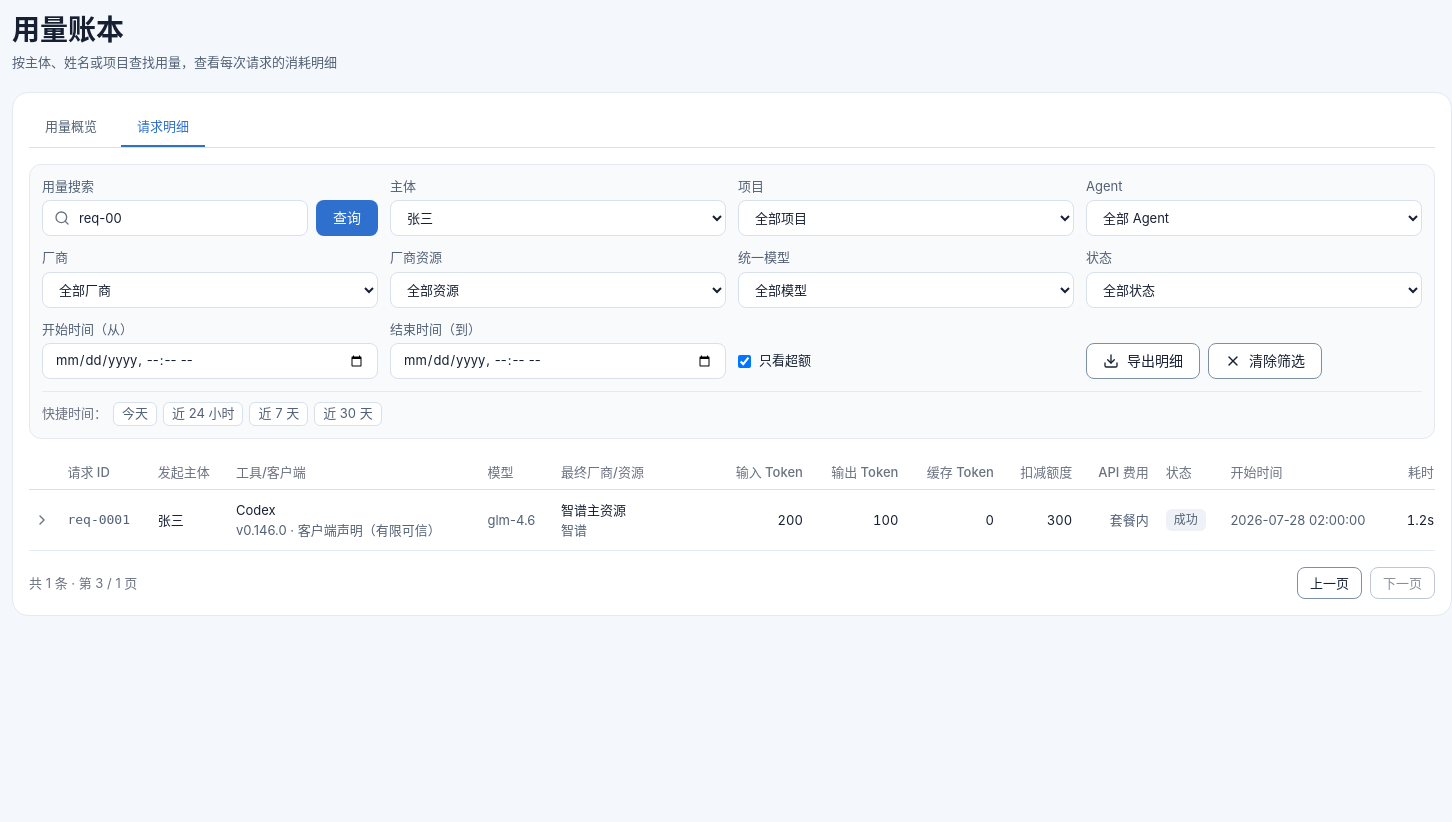
it: W18 用量账本 › 从 URL 恢复组合筛选，清除后恢复完整列表
Check: the search field named "搜索主体、姓名或项目" holds "req-00", box [42, 200, 308, 236]
Check: the dropdown labelled "主体" shows "张三", box [390, 200, 726, 236]
What coordinates should you click on to do the following:
click the button "清除筛选"
I would click on:
 (1265, 361)
Its box is [1208, 343, 1322, 379].
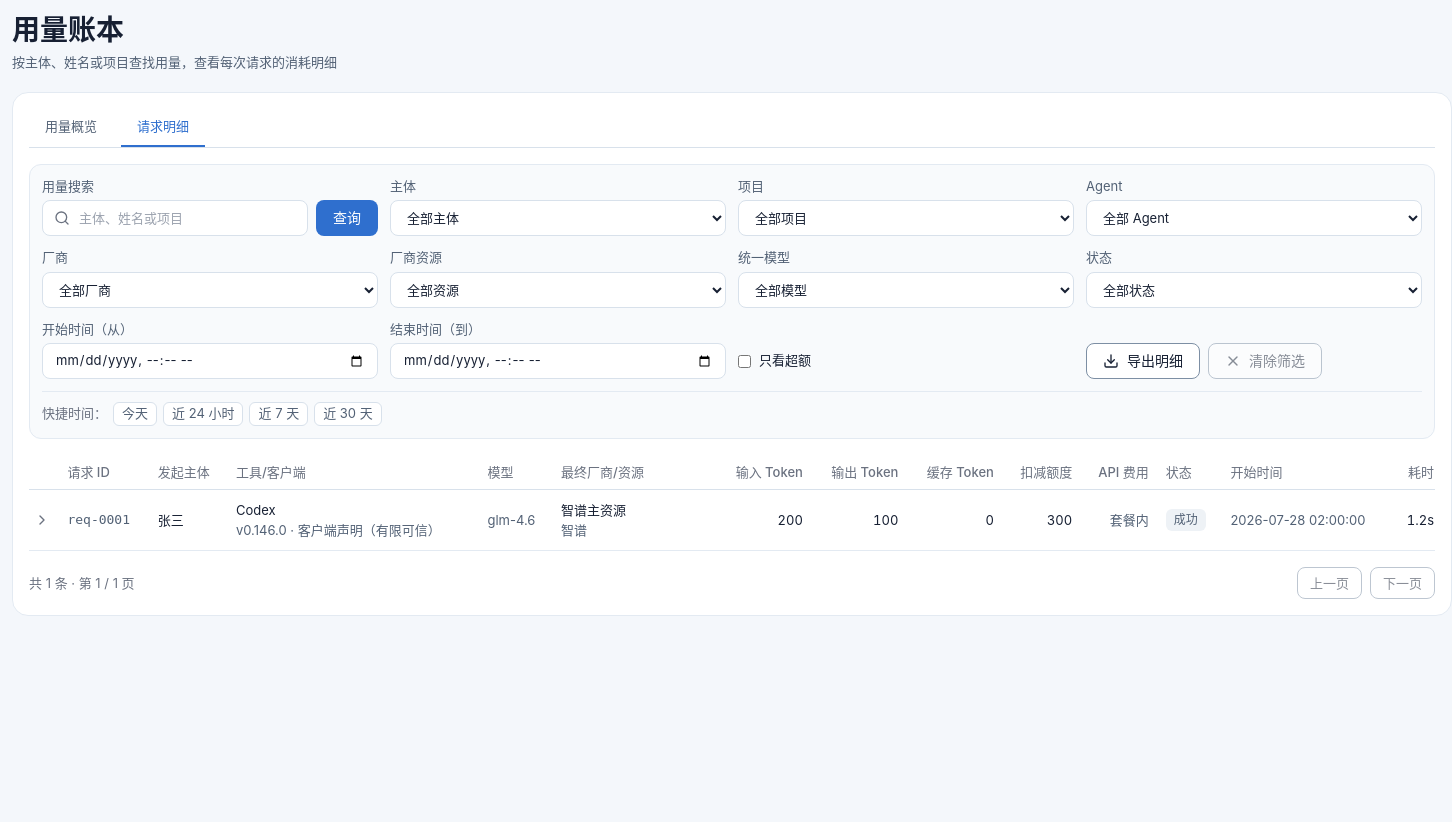
Check: the search field named "搜索主体、姓名或项目" is empty, box [42, 200, 308, 236]
Check: the checkbox labelled "只看超额" is not checked, box [738, 354, 751, 368]
